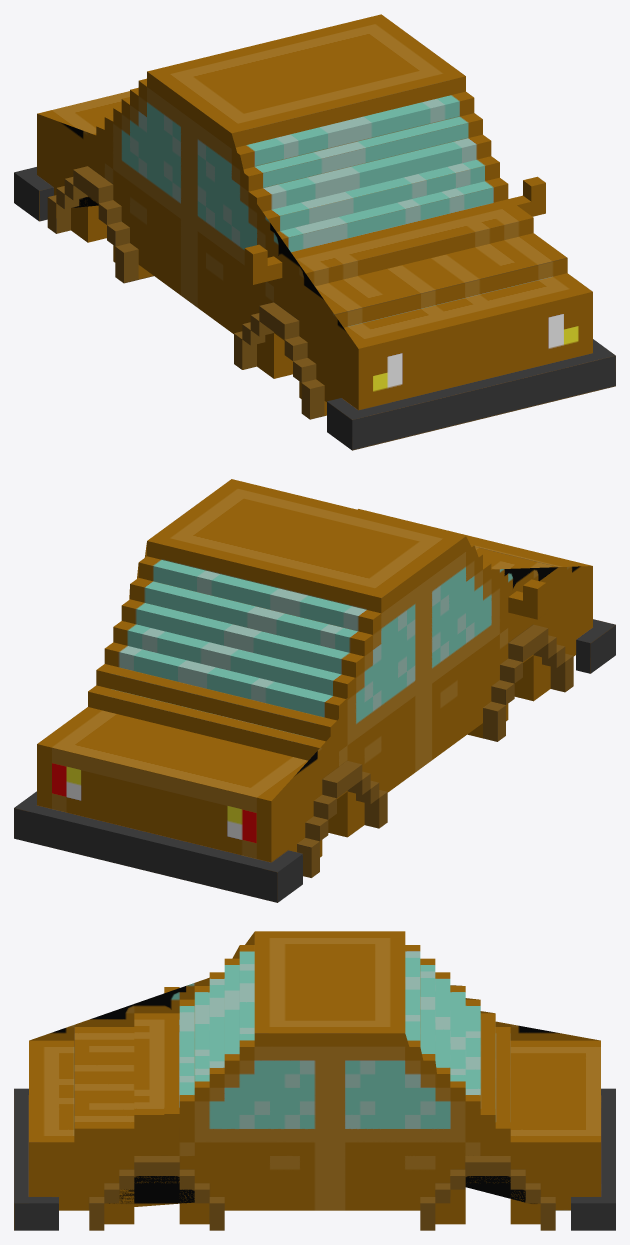
File: Car_Var3_2.obj
3 views of the same model, one above another, from view 1: azimuth 30°, elevation 25°; view 2: azimuth 150°, elevation 25°; view 3: azimuth 270°, elevation 25° (orthographic). The views are drawn at different scales.
Visible parts, largest first — view 1: Car_Var3_2_Car_Var3_2.001; view 2: Car_Var3_2_Car_Var3_2.001; view 3: Car_Var3_2_Car_Var3_2.001.
Part boxes in pixels (x1=…): Car_Var3_2_Car_Var3_2.001: x1=14, y1=14, x2=615, y2=450; Car_Var3_2_Car_Var3_2.001: x1=14, y1=479, x2=615, y2=902; Car_Var3_2_Car_Var3_2.001: x1=14, y1=931, x2=615, y2=1230.
Size of the model in its own units: 2 by 1.4 by 4.
